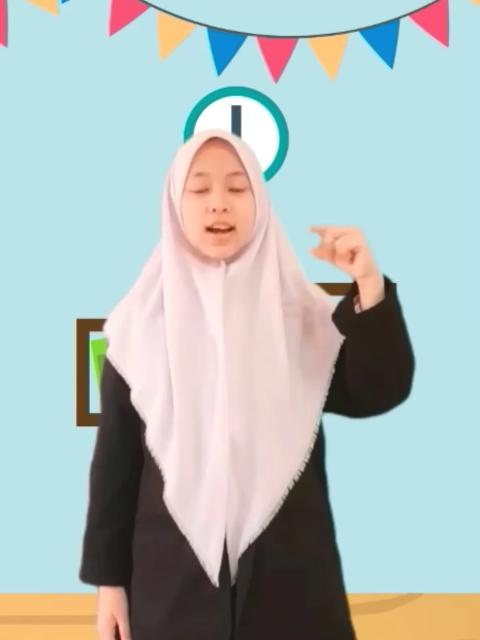G: (292, 224, 376, 276)
